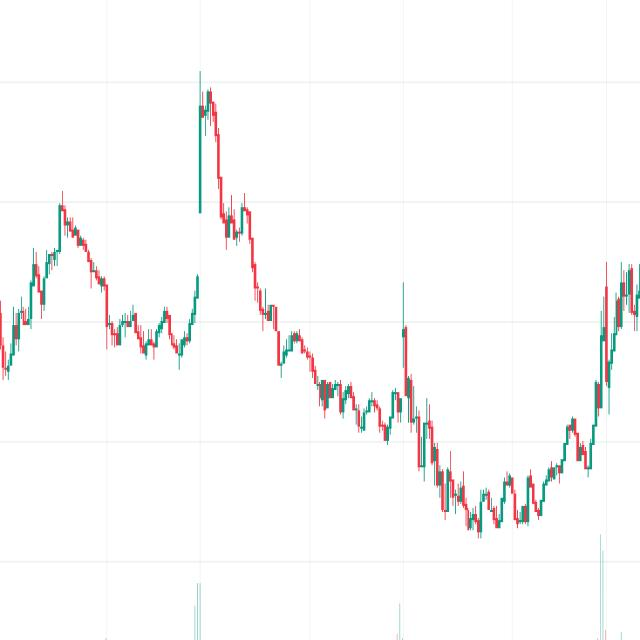Triple-Bottom: (93, 282, 203, 370)
